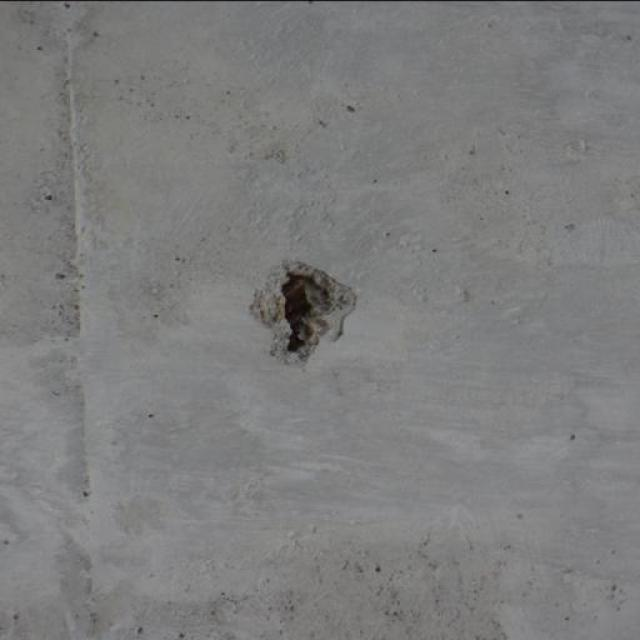D10: (251, 260, 356, 364)
